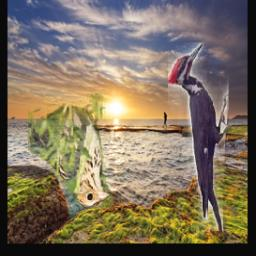Sparrow: (28, 93, 113, 209)
Woodpecker: (167, 42, 228, 231)
